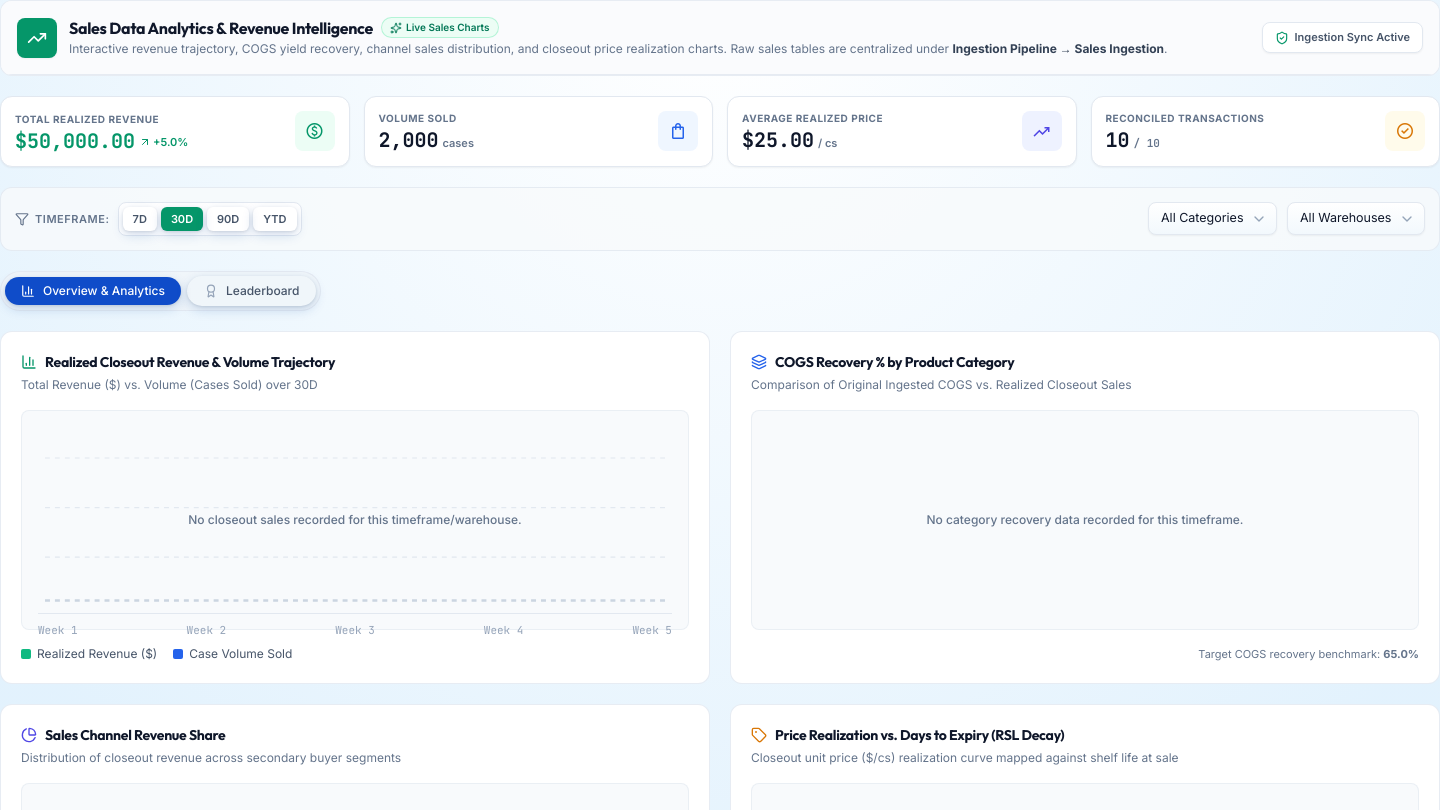
Scenario: Seam: Sales & Clearing Sub-Navigation Shell & Accessibility › isolates the 4 visual charts in Overview & Analytics and eliminates duplicate static leaderboard card and dummy data
The image size is (1440, 810).
Expected: the heading "Realized Closeout Revenue & Volume Trajectory" is shown, [45, 352, 335, 372]
Expected: the heading "COGS Recovery % by Product Category" is shown, [775, 352, 1014, 372]
Note: Switch to Leaderboard
Click the tab "Leaderboard".
click(252, 291)  # box [187, 276, 316, 306]
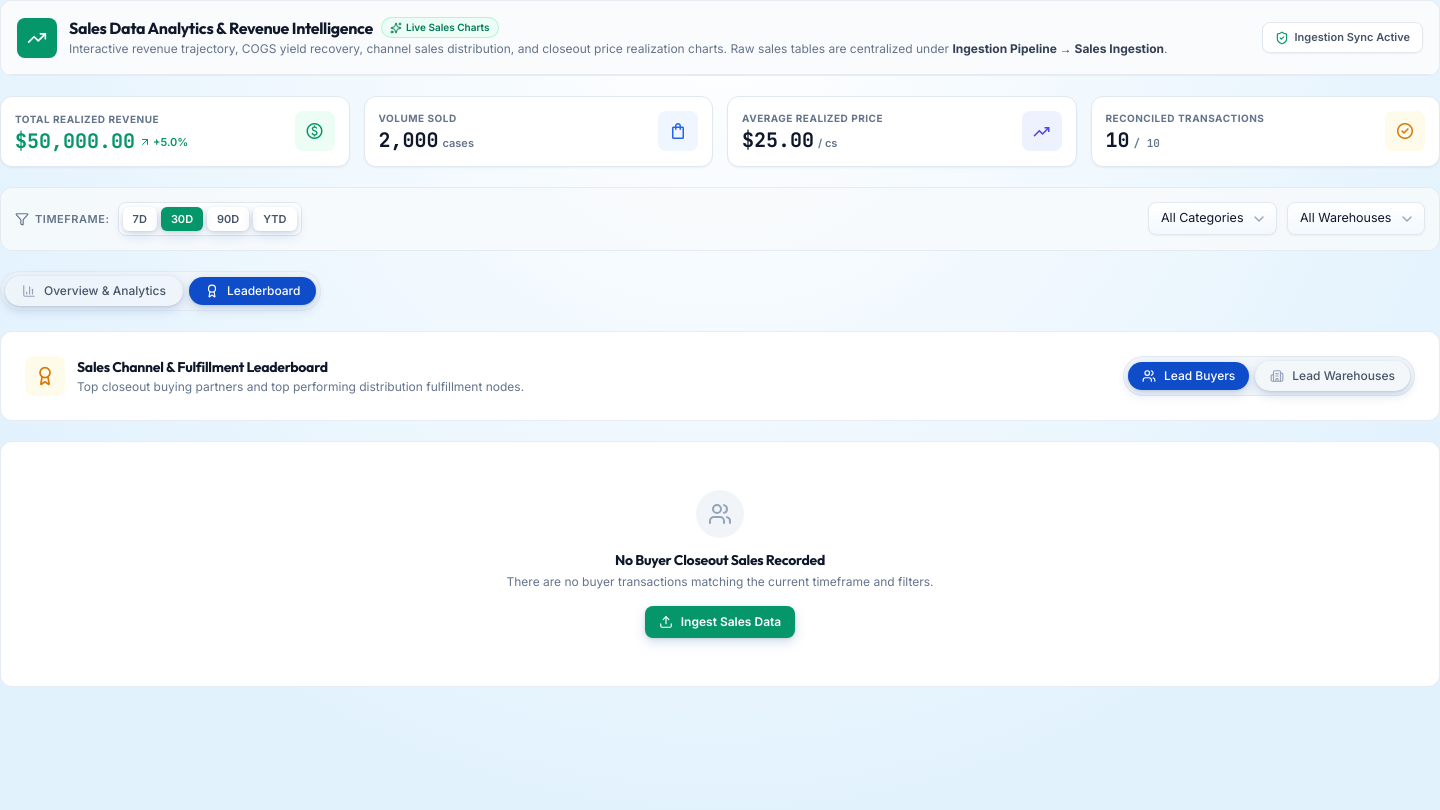
Expected: the heading "Realized Closeout Revenue & Volume Trajectory" is gone
Expected: the heading "COGS Recovery % by Product Category" is gone
Expected: the heading "Sales Channel Revenue Share" is gone
Note: Switch back to Overview & Analytics
Click the tab "Overview & Analytics".
click(94, 291)  # box [5, 276, 183, 306]
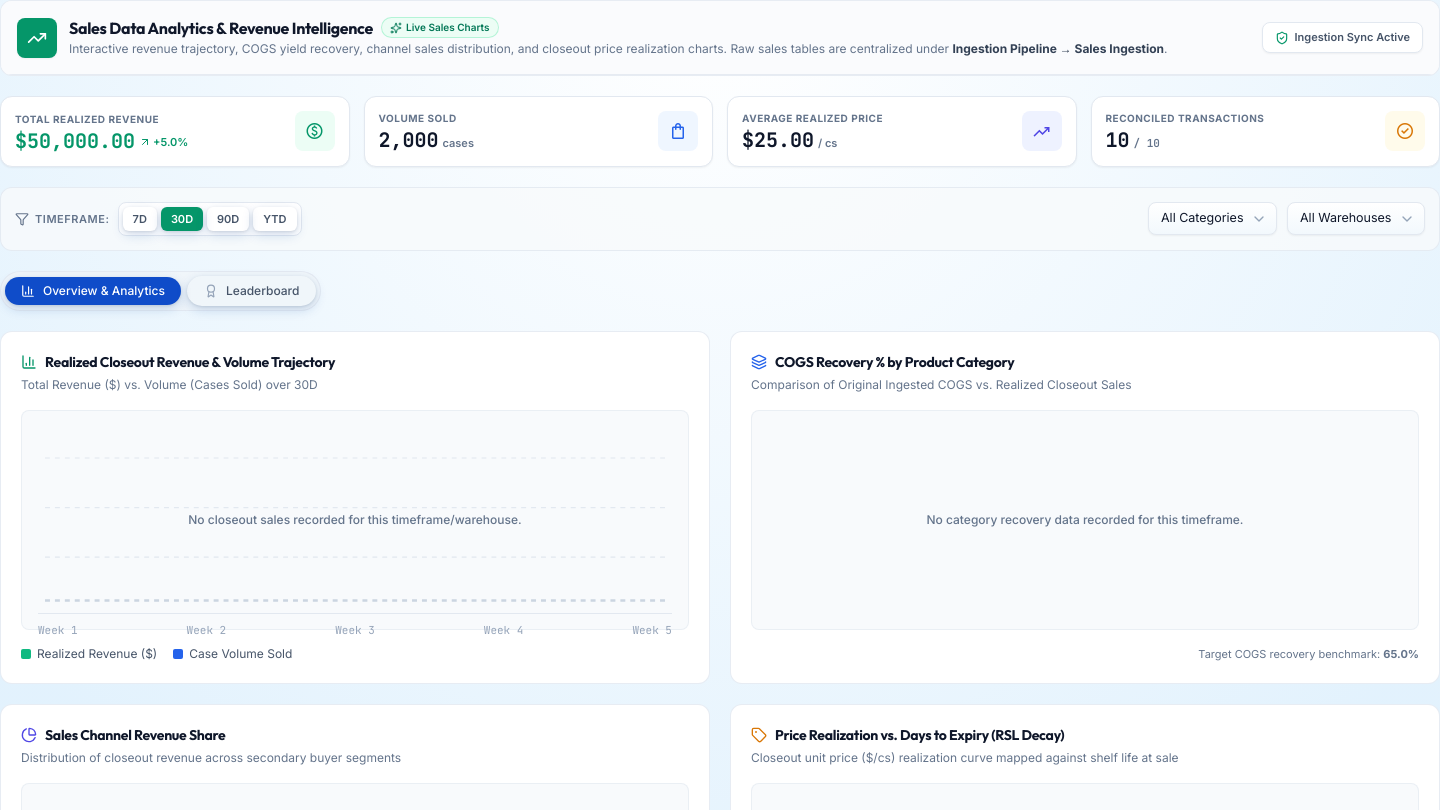
Expected: the heading "Realized Closeout Revenue & Volume Trajectory" is shown, [45, 352, 335, 372]
Expected: the heading "Sales Channel & Fulfillment Leaderboard" is gone
